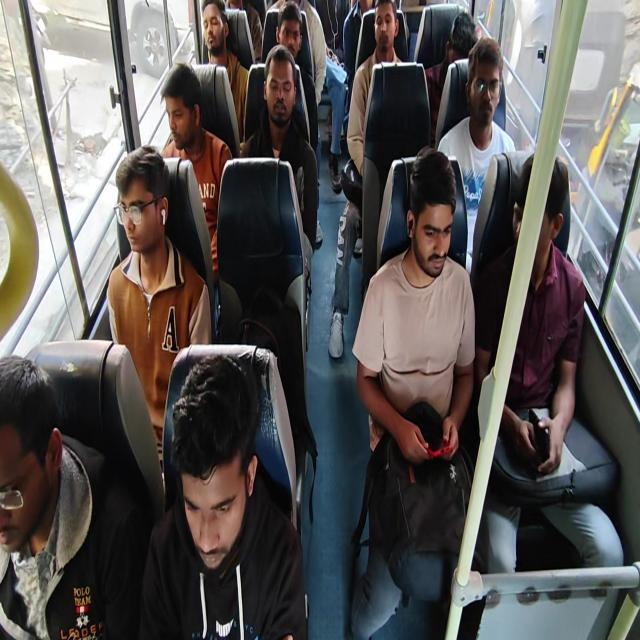person: (168, 346, 252, 576), (1, 350, 67, 560), (500, 140, 565, 268), (401, 160, 463, 276), (106, 144, 167, 253), (261, 38, 299, 148), (468, 42, 512, 136), (163, 56, 203, 154), (369, 0, 400, 59), (442, 6, 474, 56), (278, 2, 303, 64), (202, 2, 228, 61)
